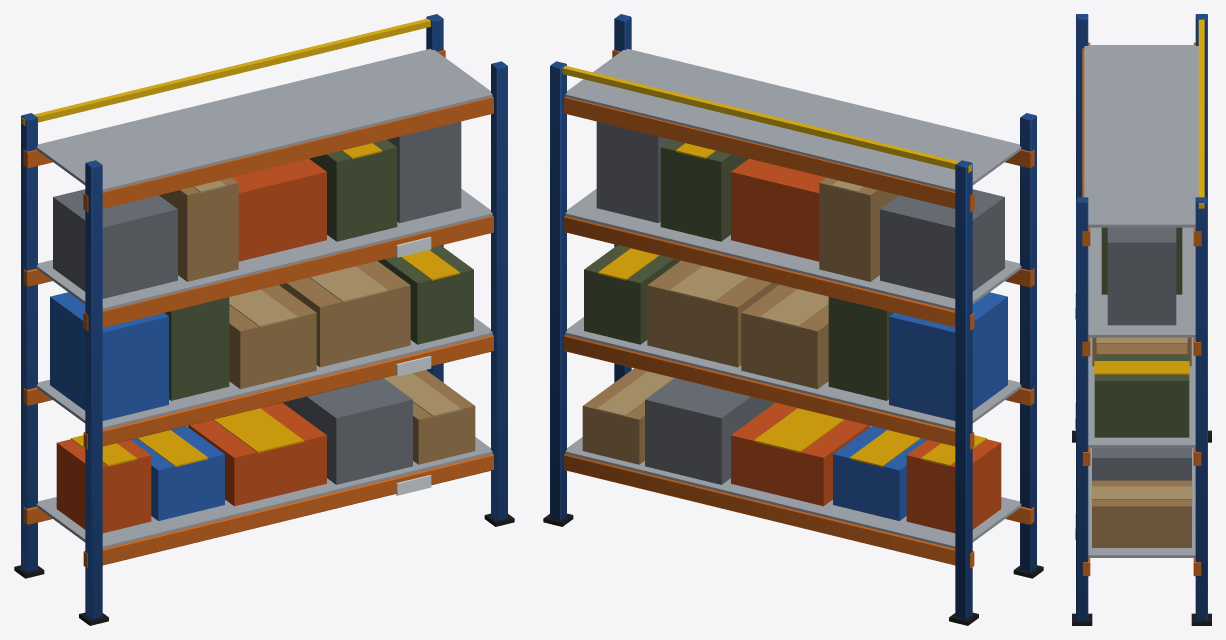
The model's file is shelving_heavy_boxes.glb.
3 renders of one model, left to right at view 1: azimuth 30°, elevation 25°; view 2: azimuth 150°, elevation 25°; view 3: azimuth 270°, elevation 25°, orthographic. The views are drawn at different scales.
Parts seen in each view (by area): view 1: shelving_heavy_boxes; view 2: shelving_heavy_boxes; view 3: shelving_heavy_boxes.
Part boxes in pixels (x1,y1,x2,y2): shelving_heavy_boxes: [14, 14, 514, 625]; shelving_heavy_boxes: [543, 14, 1043, 625]; shelving_heavy_boxes: [1072, 14, 1211, 625].
Size of the model in its own units: 2.24 by 2.3 by 0.69.
